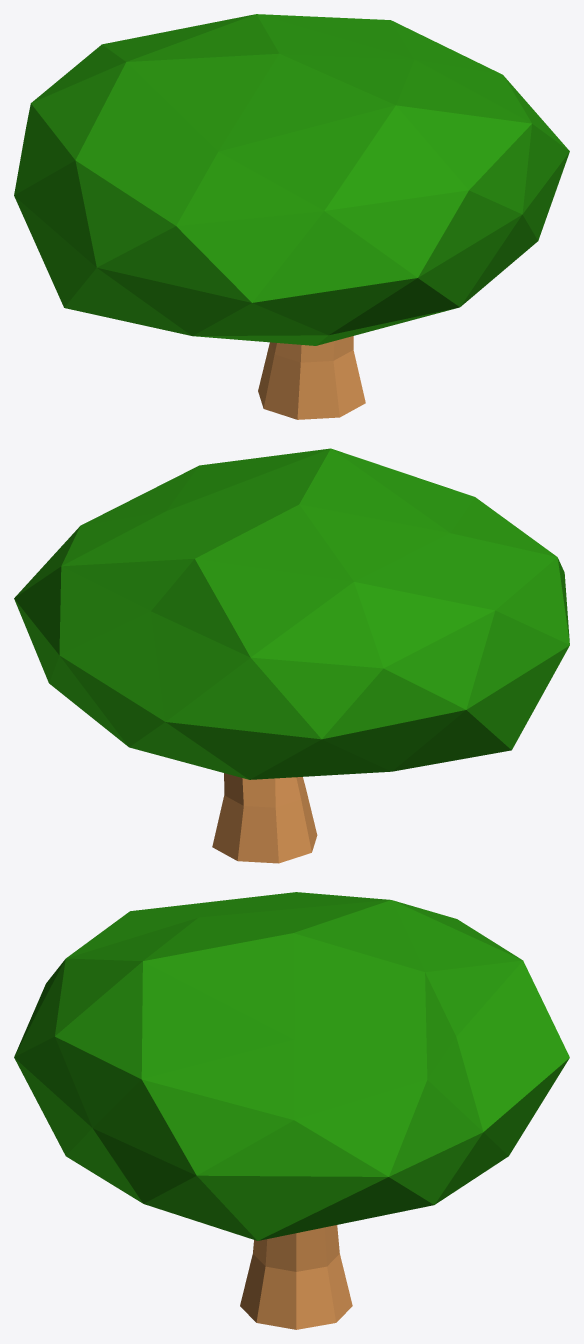
Rendered from Tree2, Short_Fat.fbx.
The picture shows the model from 3 angles, top to bottom: view 1: azimuth 30°, elevation 25°; view 2: azimuth 150°, elevation 25°; view 3: azimuth 270°, elevation 25°; orthographic projection. The views are drawn at different scales.
Parts seen in each view (by area): view 1: Tree2; view 2: Tree2; view 3: Tree2.
Part boxes in pixels (x1=…): Tree2: x1=14, y1=14, x2=569, y2=419; Tree2: x1=14, y1=448, x2=569, y2=863; Tree2: x1=14, y1=892, x2=569, y2=1329.
Bounding box in the file's own units: 448 × 317 × 449.
